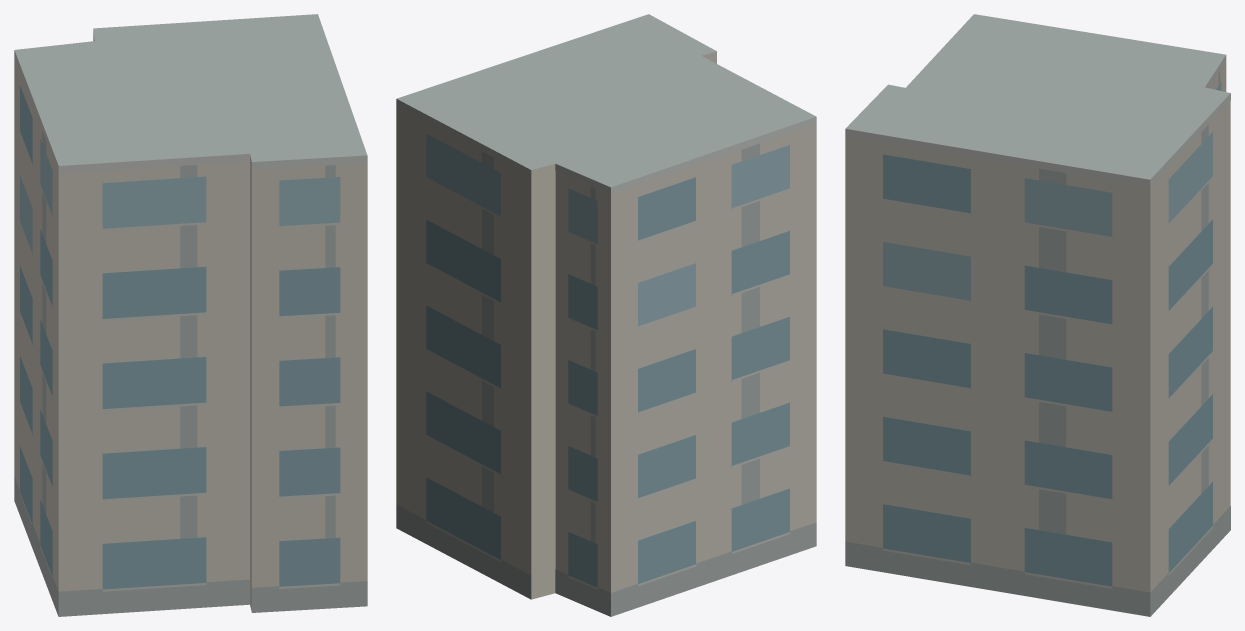
File: survey-upis-32508540.glb
3 views of the same model, side by side, from view 1: azimuth 30°, elevation 25°; view 2: azimuth 150°, elevation 25°; view 3: azimuth 270°, elevation 25° (orthographic). The views are drawn at different scales.
Parts seen in each view (by area): view 1: survey-upis-32508540.tmp; view 2: survey-upis-32508540.tmp; view 3: survey-upis-32508540.tmp.
Part boxes in pixels (x1,y1,x2,y2): survey-upis-32508540.tmp: (14, 14, 367, 616); survey-upis-32508540.tmp: (396, 14, 816, 616); survey-upis-32508540.tmp: (845, 14, 1230, 616).
Size of the model in its own units: 11.55 by 14.2 by 11.36.
